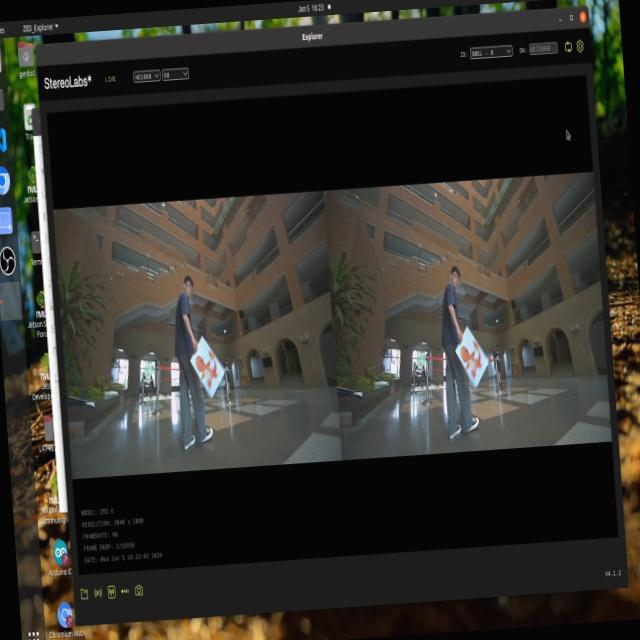red: (190, 344, 230, 396), (452, 336, 492, 383)
